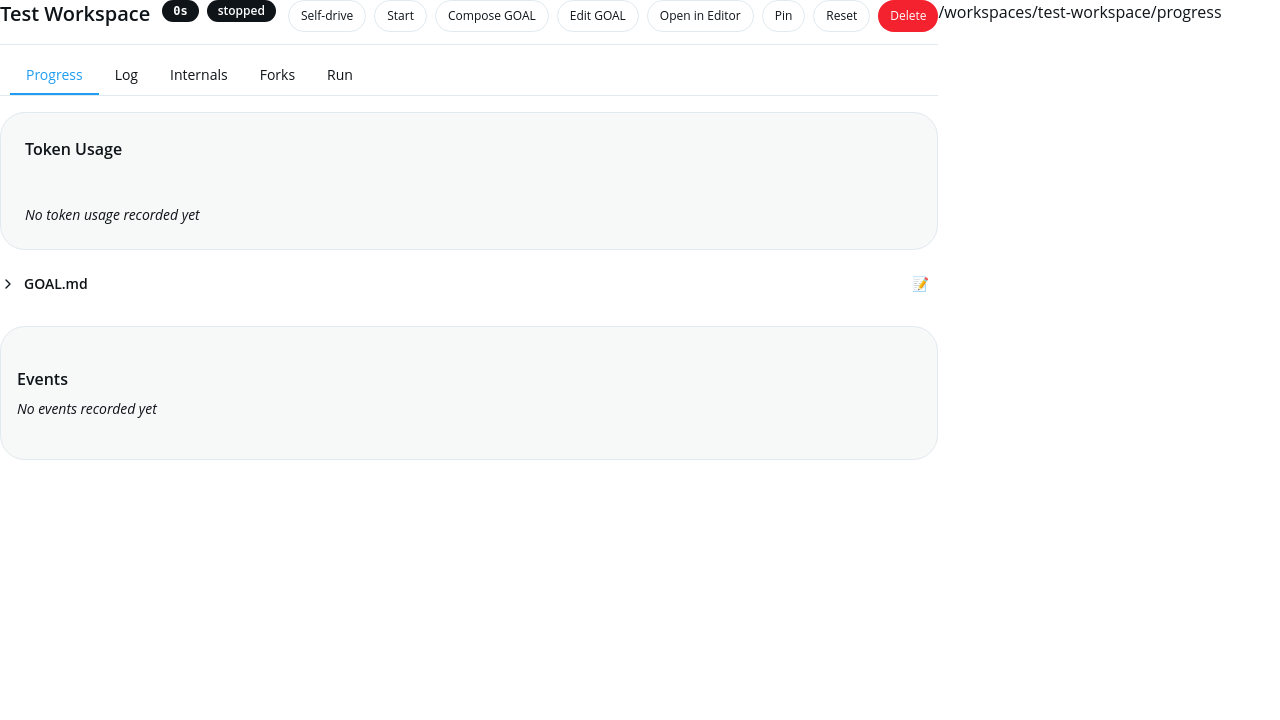
Test case: WorkspaceDetail › reset functionality › opens reset confirmation dialog with required safety copy
This screenshot has width=1280, height=720.
Click the button "Reset" at (842, 16), box x1=813 y1=0 x2=870 y2=32
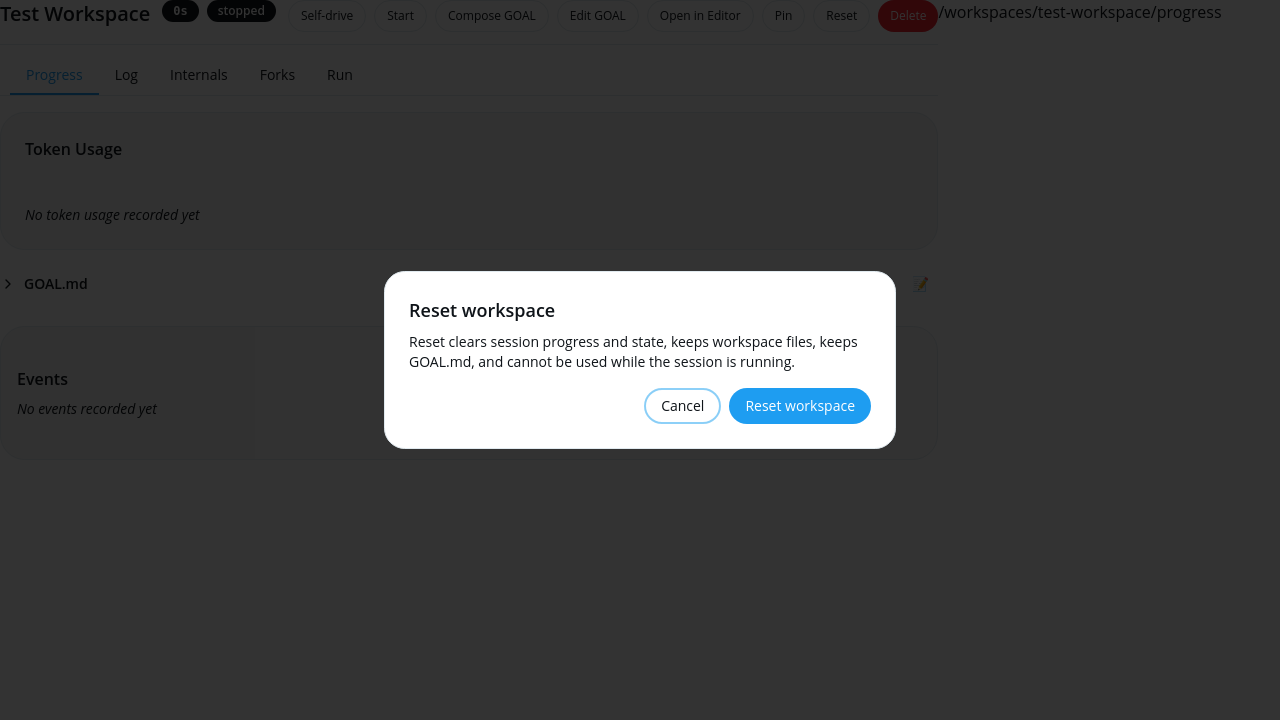
Expected: the heading "Reset workspace" is shown, x1=409 y1=298 x2=555 y2=322
Expected: the text "cannot be used while the session is running" is shown, x1=409 y1=332 x2=858 y2=371
